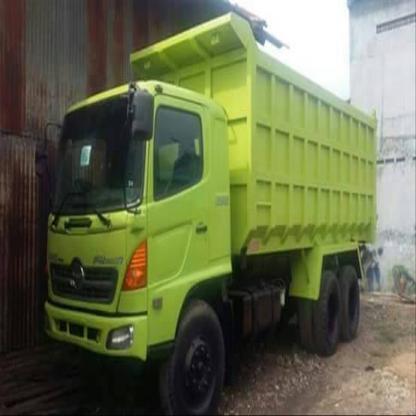dump_truck: (40, 13, 378, 416)
